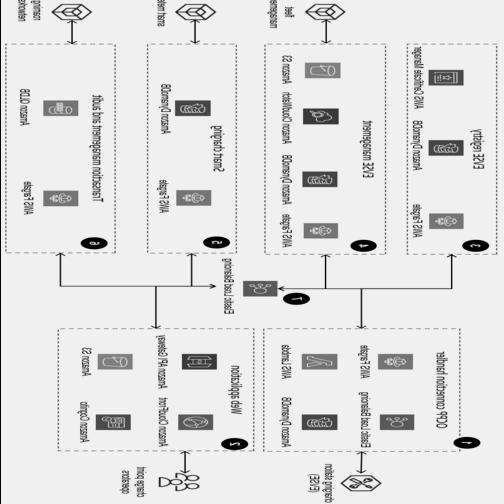actor: (300, 459, 362, 500), (146, 459, 208, 500), (295, 3, 356, 34), (162, 3, 223, 34), (39, 3, 100, 34)
api_gateway: (192, 348, 234, 374)
compute: (305, 220, 346, 247), (377, 348, 418, 374), (295, 348, 336, 374), (428, 210, 469, 236), (172, 185, 213, 211), (49, 185, 90, 211)
data_flow: (362, 285, 454, 295), (64, 280, 156, 290), (274, 285, 336, 295), (177, 280, 238, 290), (356, 290, 366, 331), (152, 290, 162, 331), (187, 254, 198, 285), (182, 444, 193, 474), (356, 444, 366, 474), (187, 21, 198, 47), (449, 259, 458, 290), (321, 259, 330, 290), (60, 254, 69, 285), (321, 21, 330, 47), (65, 21, 74, 47)
database_storage: (305, 164, 346, 191), (295, 410, 336, 436), (428, 134, 469, 160), (305, 57, 346, 83), (172, 92, 213, 118), (49, 92, 90, 118), (96, 348, 136, 374)
network_security: (192, 410, 234, 436), (377, 410, 418, 436), (428, 57, 469, 83), (305, 113, 346, 139), (238, 277, 279, 303), (96, 410, 136, 436)
trust_boundary: (266, 49, 385, 254), (259, 331, 454, 454), (70, 331, 254, 454), (402, 49, 494, 254), (146, 49, 238, 254), (18, 49, 110, 254)
